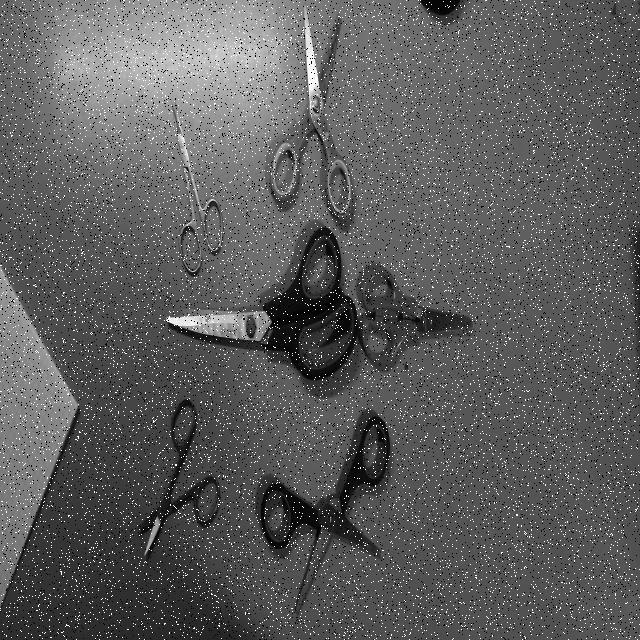scissors: (158, 221, 361, 390), (258, 412, 394, 617), (266, 0, 356, 225), (136, 396, 222, 564), (359, 264, 476, 372), (172, 96, 226, 284)
